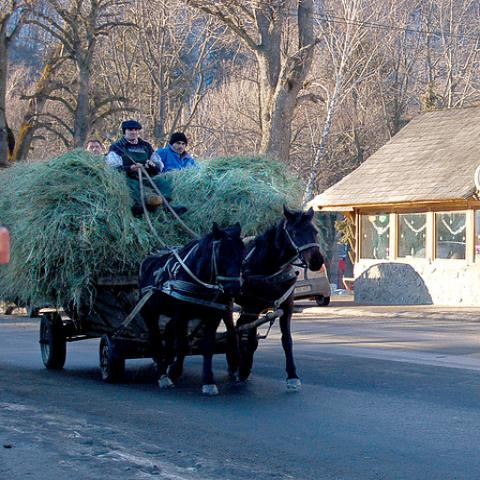car: (293, 261, 331, 307)
